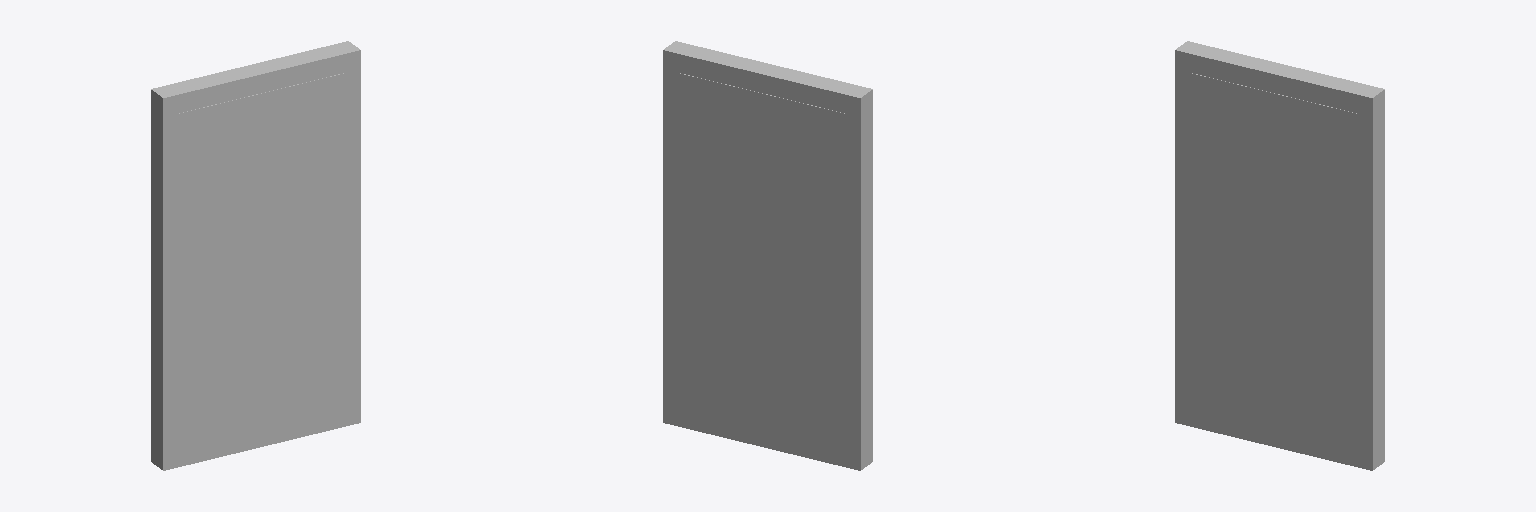
The model's file is glasspanel.obj.
3 views of the same model, side by side, from view 1: azimuth 30°, elevation 25°; view 2: azimuth 150°, elevation 25°; view 3: azimuth 330°, elevation 25° (orthographic).
Parts seen in each view (by area): view 1: Cube.001; view 2: Cube.001; view 3: Cube.001.
Boxes of the visible parts, x1,y1,x2,y2 form: Cube.001: [151, 41, 360, 470]; Cube.001: [663, 41, 872, 470]; Cube.001: [1175, 41, 1384, 470].
Size of the model in its own units: 2 by 3.61 by 0.2315.